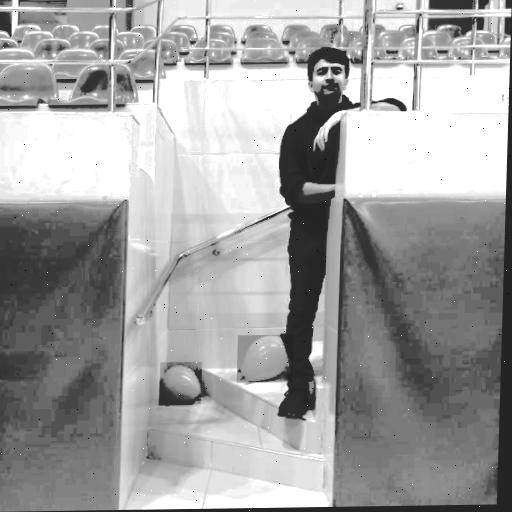balloon: (237, 335, 294, 383), (159, 362, 202, 405)
